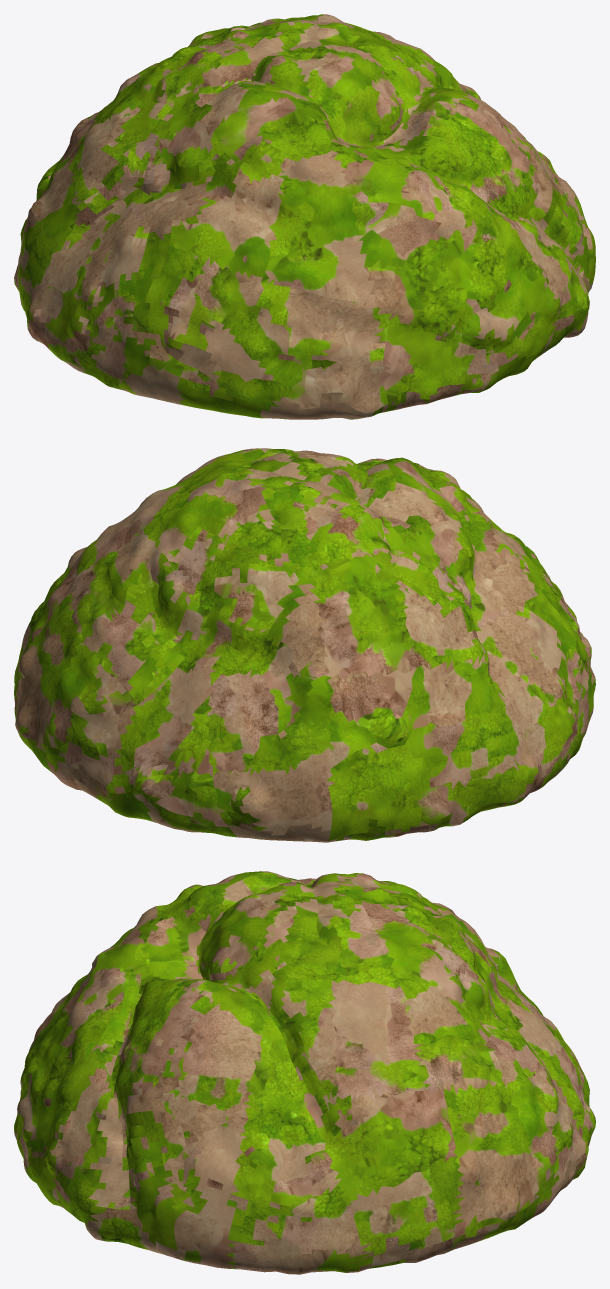
Rendered from veg_ground_moss_01.obj.
3 renders of one model, top to bottom at view 1: azimuth 30°, elevation 25°; view 2: azimuth 150°, elevation 25°; view 3: azimuth 270°, elevation 25°, orthographic.
Parts seen in each view (by area): view 1: veg_ground_moss_01; view 2: veg_ground_moss_01; view 3: veg_ground_moss_01.
Boxes of the visible parts, x1,y1,x2,y2 form: veg_ground_moss_01: (14,14,595,419); veg_ground_moss_01: (14,448,595,842); veg_ground_moss_01: (14,871,595,1274).
Size of the model in its own units: 0.1499 by 0.0754 by 0.15.
1 material, 1 textured.
